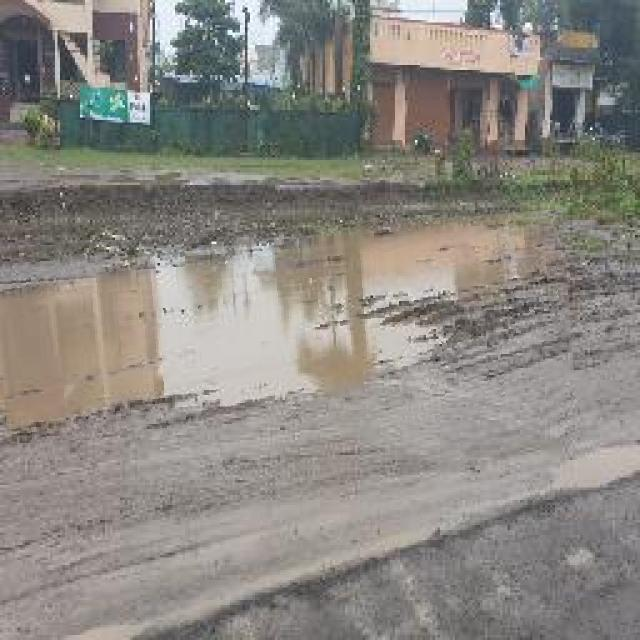puddle: (1, 220, 574, 435)
